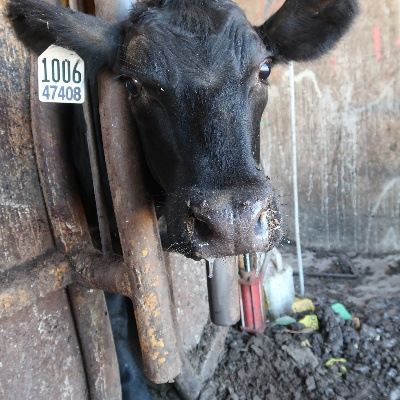fidget_spinner: (172, 189, 287, 263)
